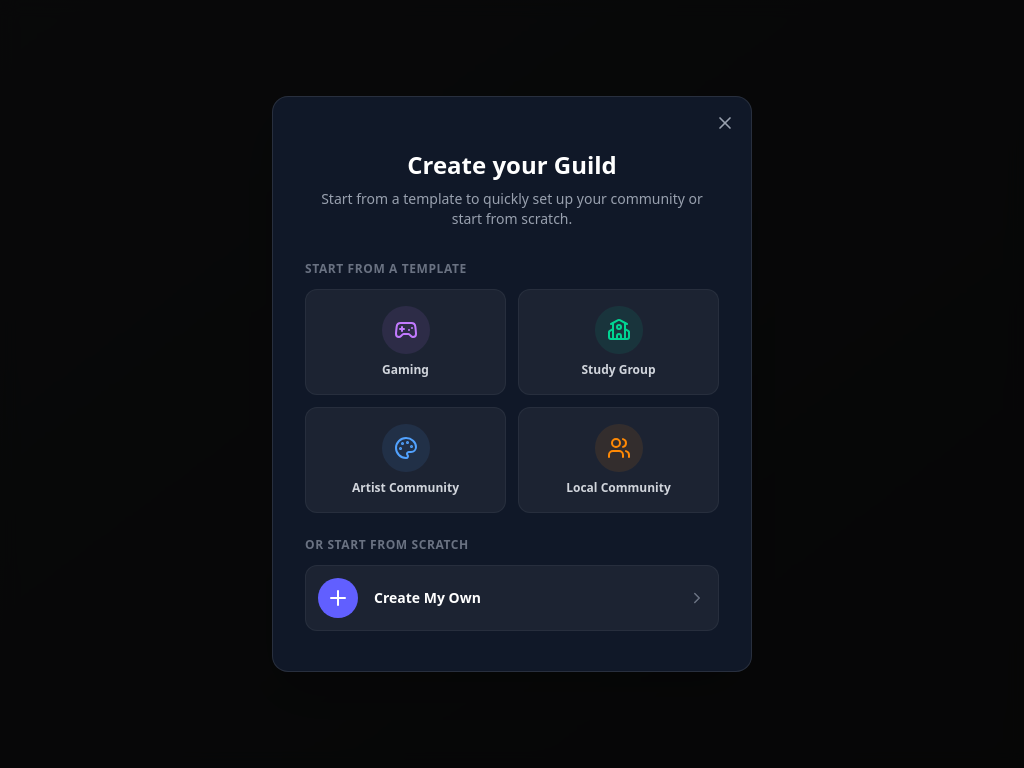
Test: CreateGuildModal › transitions to customization step when "Create My Own" is clicked
The image size is (1024, 768).
Click the button "Create My Own". click: point(338, 598)
box: x1=305 y1=565 x2=719 y2=631
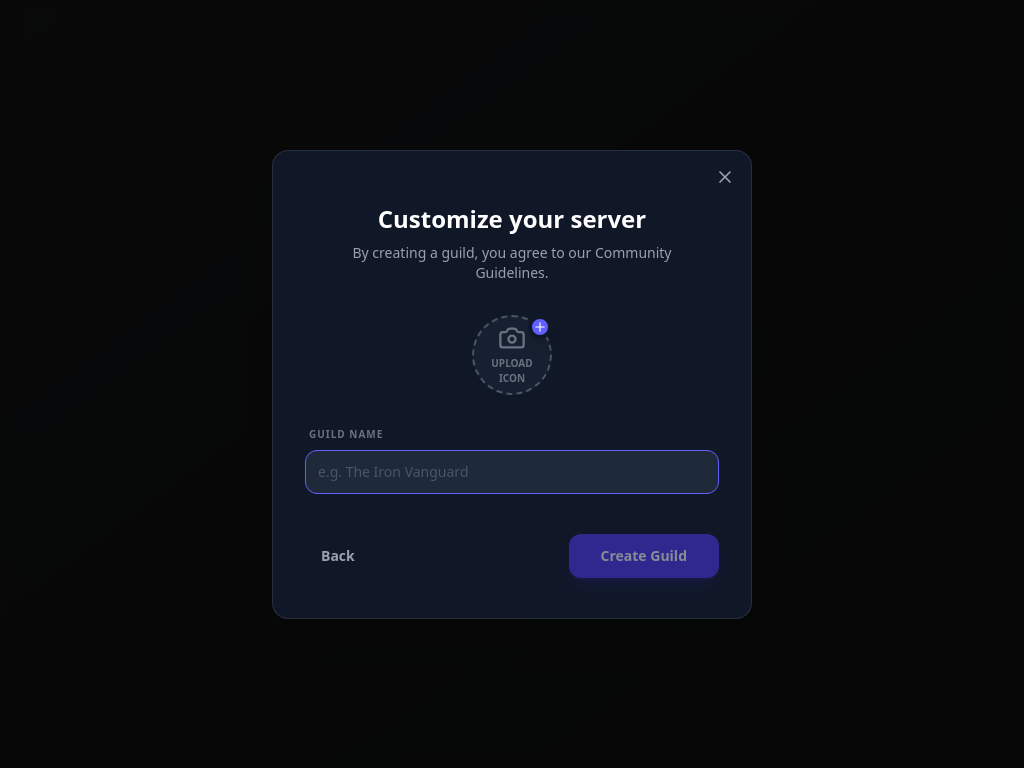
Result: the heading "Customize your server" is shown at x1=378 y1=202 x2=646 y2=234
Result: the field with placeholder "e.g. The Iron Vanguard" is shown at x1=305 y1=450 x2=719 y2=494
